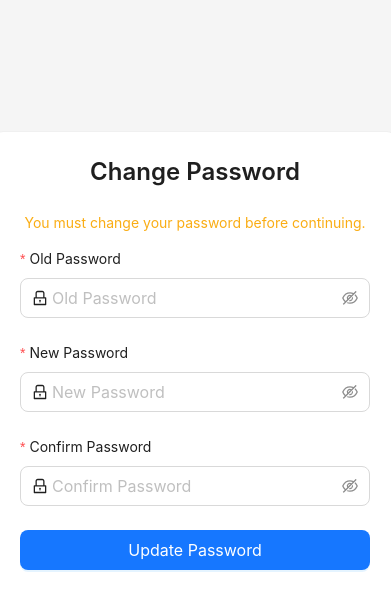
Scenario: ChangePasswordPage › shows mismatch error when new and confirm differ
This screenshot has width=391, height=591.
Type "oldpass" into the password field with placeholder "Old Password" at (195, 298), box [52, 286, 338, 310]
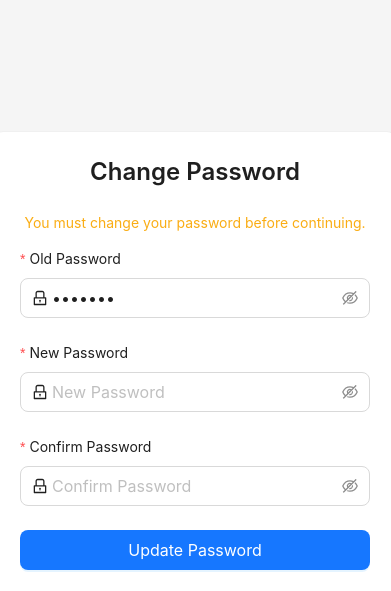
Type "newpass1234" into the password field with placeholder "New Password" at (195, 392), box [52, 380, 338, 404]
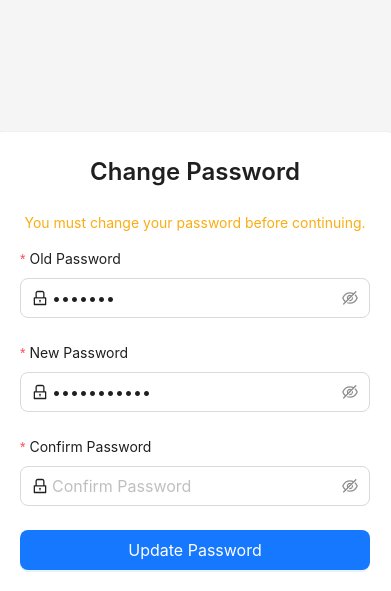
Type "different" into the password field with placeholder "Confirm Password" at (195, 486), box [52, 474, 338, 498]
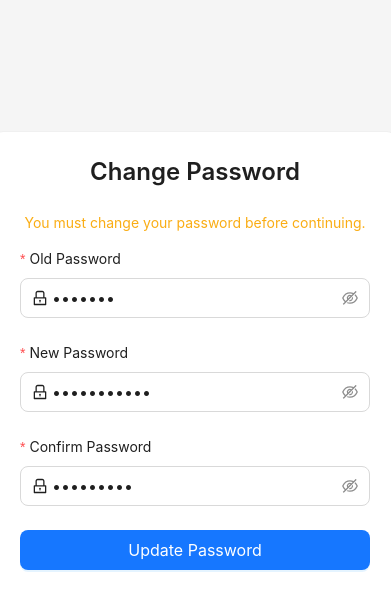
Click the button "Update Password" at (195, 550), box [20, 530, 370, 570]
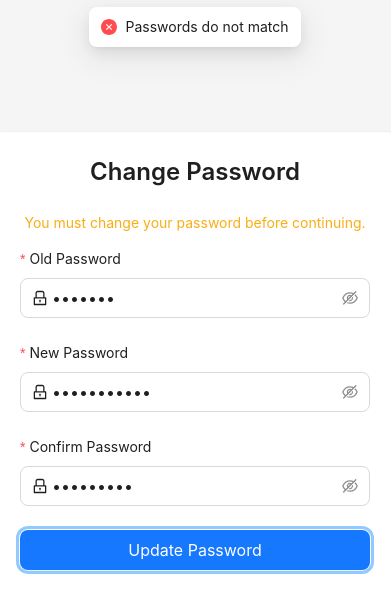
Expected: the text "Passwords do not match" is shown, [126, 16, 289, 38]
